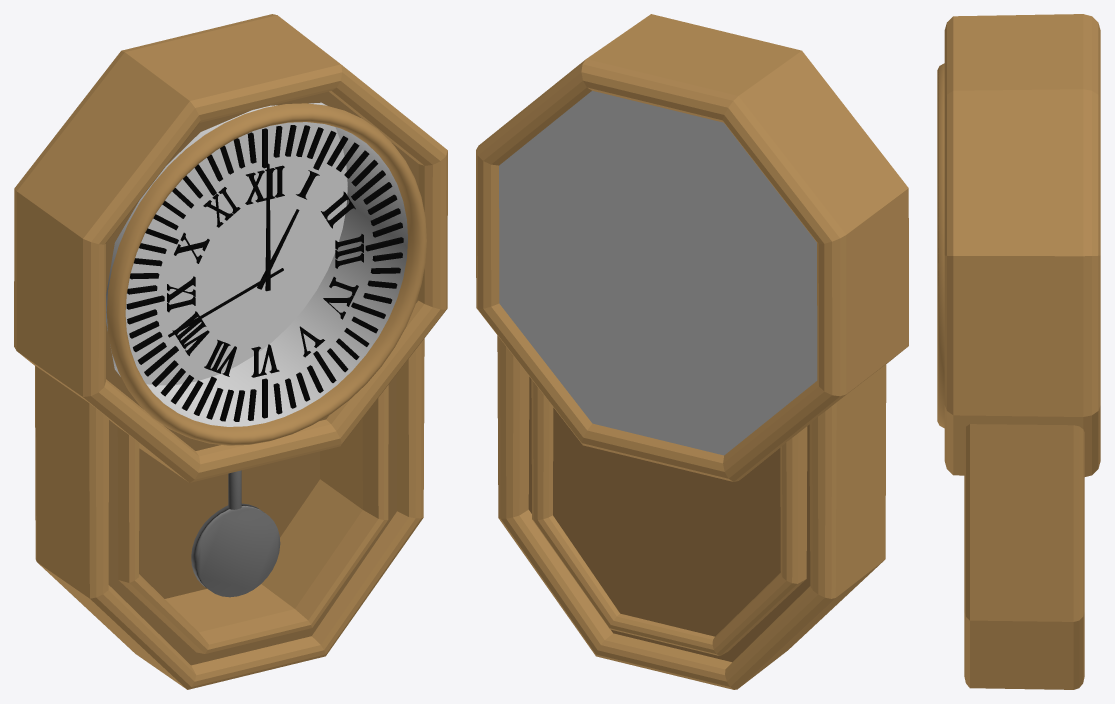
File: suwanomori_clock.glb
3 renders of one model, left to right at view 1: azimuth 30°, elevation 25°; view 2: azimuth 150°, elevation 25°; view 3: azimuth 270°, elevation 25°, orthographic.
Parts seen in each view (by area): view 1: トーラス.002, トーラス.003, トーラス.001, テキスト, 円柱, テキスト.001; view 2: トーラス.002, トーラス.003; view 3: トーラス.002, トーラス.003, トーラス.001.
Part boxes in pixels (x1=…): トーラス.002: x1=14, y1=14, x2=447, y2=482; トーラス.003: x1=35, y1=338, x2=424, y2=689; トーラス.001: x1=106, y1=102, x2=426, y2=445; テキスト: x1=126, y1=125, x2=403, y2=421; 円柱: x1=191, y1=470, x2=280, y2=597; テキスト.001: x1=128, y1=128, x2=402, y2=388; トーラス.002: x1=476, y1=14, x2=908, y2=481; トーラス.003: x1=497, y1=335, x2=886, y2=689; トーラス.002: x1=944, y1=14, x2=1100, y2=476; トーラス.003: x1=964, y1=424, x2=1084, y2=689; トーラス.001: x1=937, y1=63, x2=944, y2=428.
Bounding box in the file's own units: 8.93 × 13.88 × 3.4.
